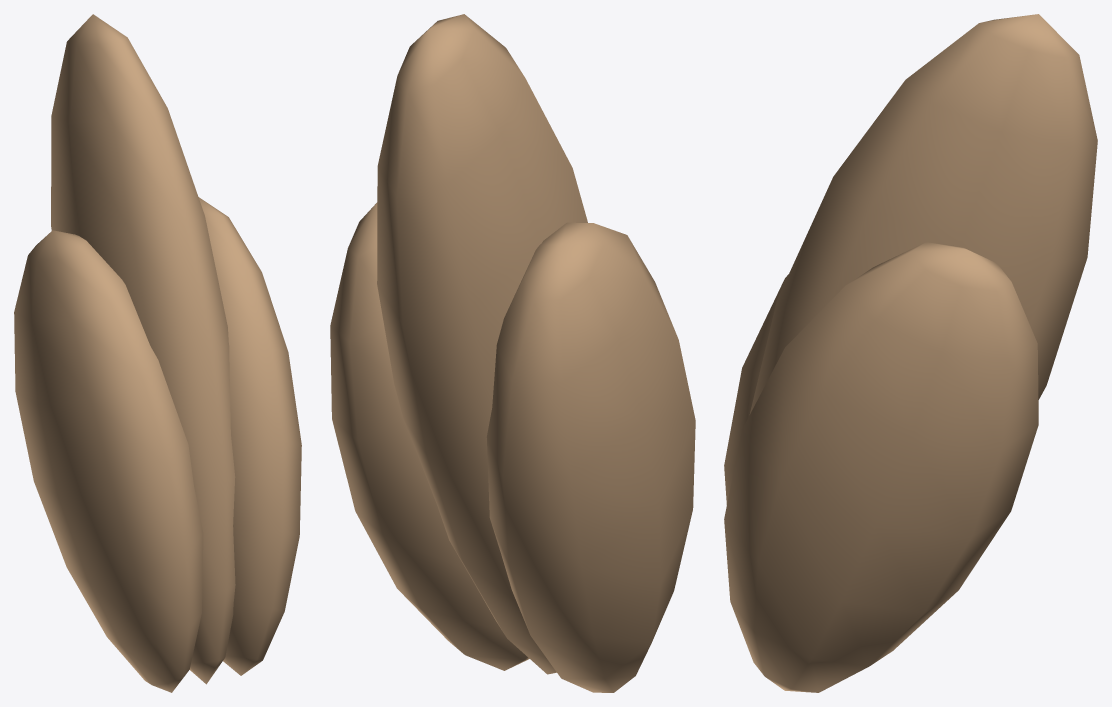
Rendered from crest-feather-tuft.glb.
3 views of the same model, side by side, from view 1: azimuth 30°, elevation 25°; view 2: azimuth 150°, elevation 25°; view 3: azimuth 270°, elevation 25° (orthographic). The views are drawn at different scales.
Visible parts, largest first — view 1: crest-feather-tuft; view 2: crest-feather-tuft; view 3: crest-feather-tuft.
Part boxes in pixels (x1=…): crest-feather-tuft: x1=14, y1=14, x2=301, y2=692; crest-feather-tuft: x1=330, y1=14, x2=695, y2=692; crest-feather-tuft: x1=724, y1=14, x2=1097, y2=692.
Bounding box in the file's own units: 0.0525 × 0.1321 × 0.068.
